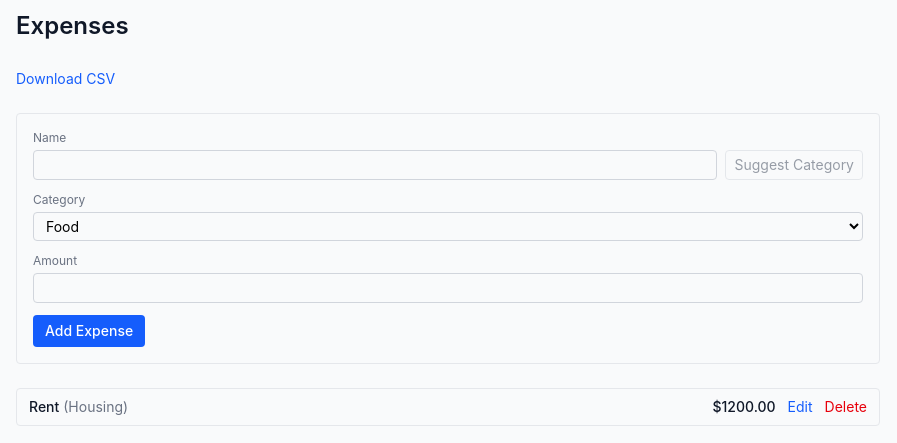
it: ExpensesPage › deletes an expense after confirmation and refetches the list
expect the text "Rent" is shown: met, box [29, 398, 59, 415]
Click the button "Delete" at (846, 407), box [825, 397, 867, 417]
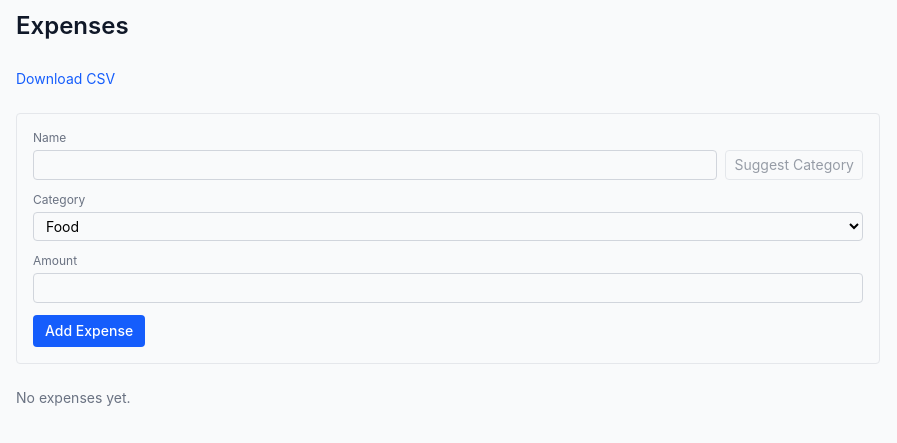
expect the text "No expenses yet." is shown: met, box [16, 389, 131, 406]
